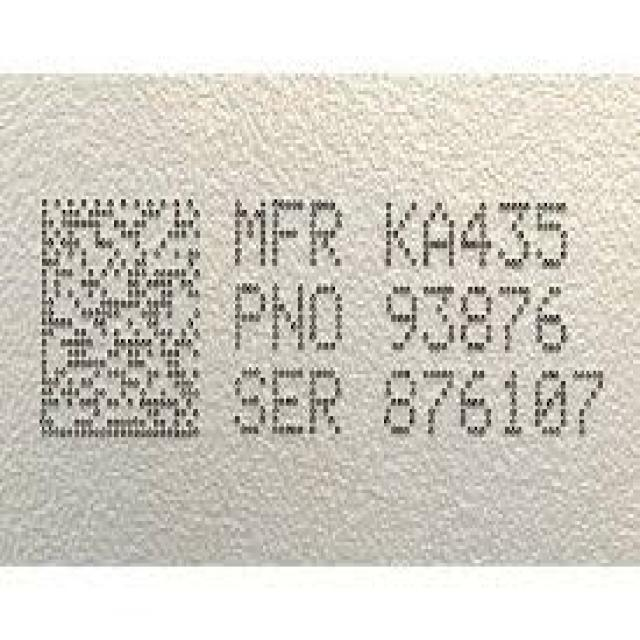Data-Matrix: (30, 185, 207, 455)
